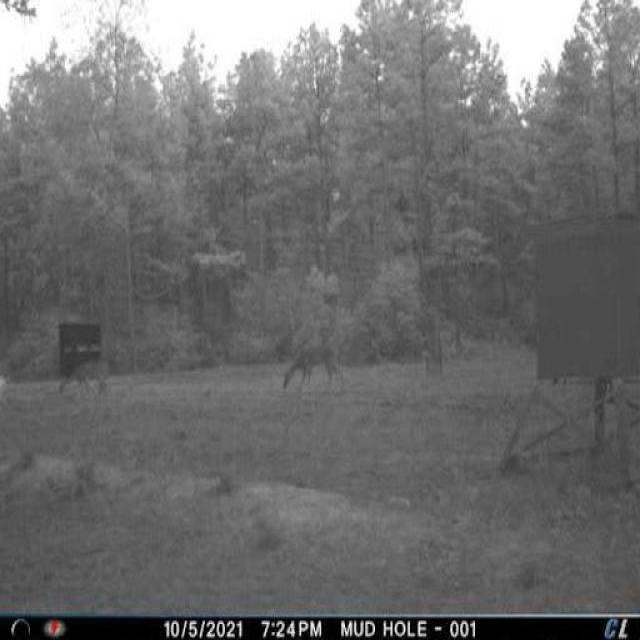deer: (278, 328, 352, 407), (55, 347, 113, 409)
